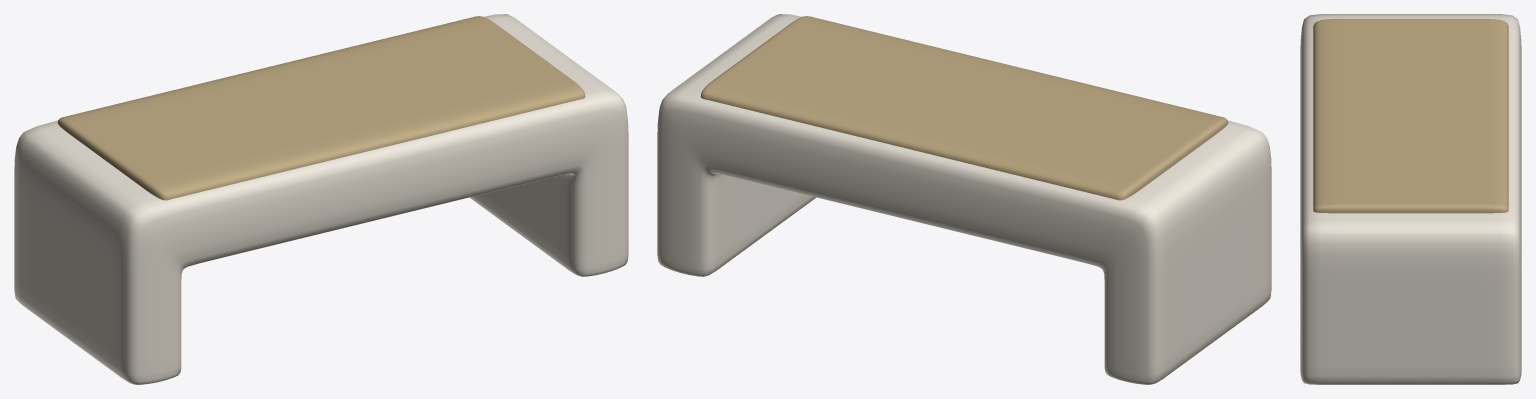
Rendered from Institute_Footstool_Final.FBX.
The picture shows the model from 3 angles, left to right: view 1: azimuth 30°, elevation 25°; view 2: azimuth 150°, elevation 25°; view 3: azimuth 270°, elevation 25°; orthographic projection. The views are drawn at different scales.
Parts seen in each view (by area): view 1: Footstool; view 2: Footstool; view 3: Footstool.
Part boxes in pixels (x1,y1,x2,y2): Footstool: (14, 14, 628, 384); Footstool: (657, 14, 1271, 384); Footstool: (1300, 14, 1521, 384).
Bounding box in the file's own units: 184 × 63.82 × 77.27.
